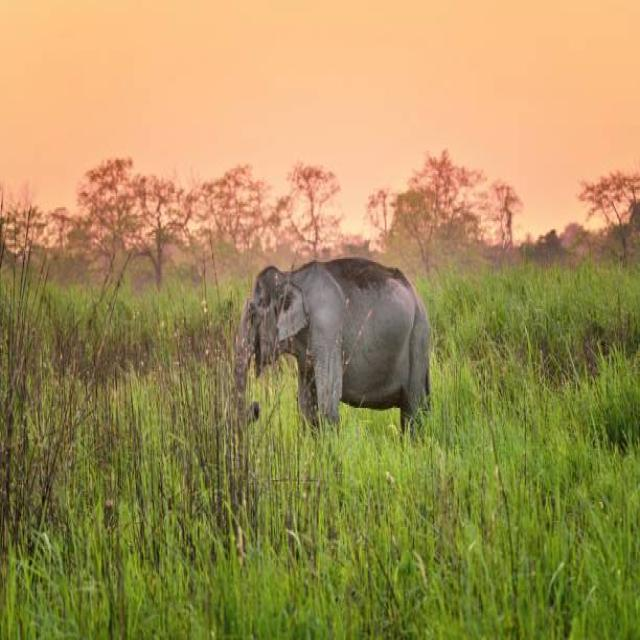Elephant: (232, 245, 459, 452)
